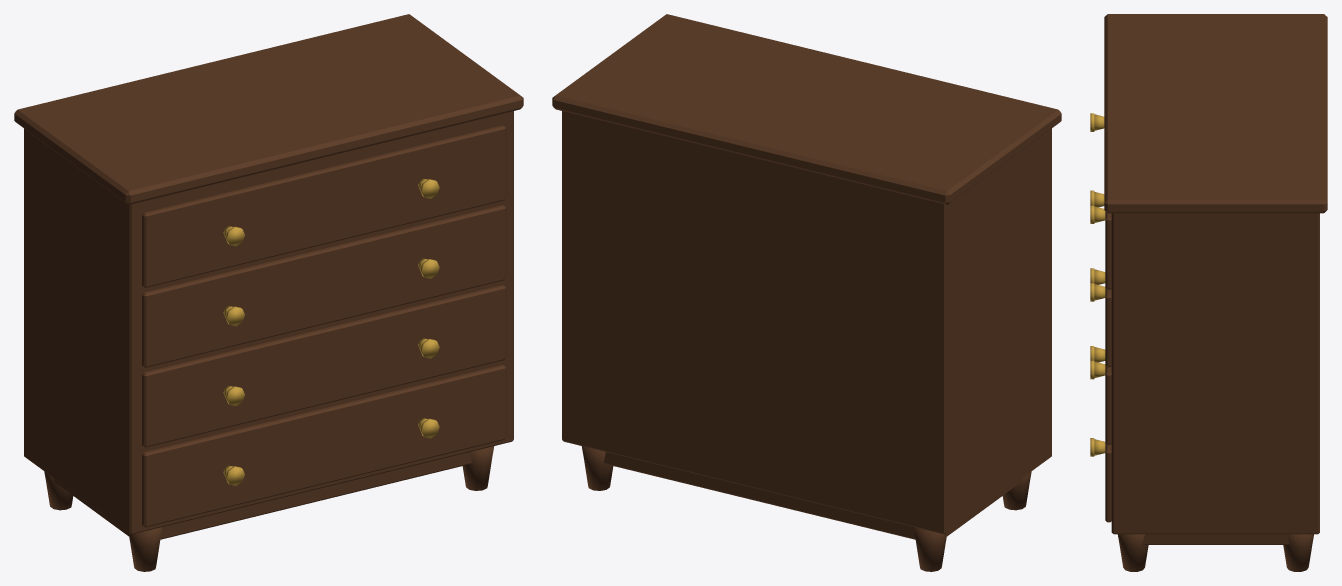
Rendered from Comoda.fbx.
3 renders of one model, left to right at view 1: azimuth 30°, elevation 25°; view 2: azimuth 150°, elevation 25°; view 3: azimuth 270°, elevation 25°, orthographic. The views are drawn at different scales.
Visible parts, largest first — view 1: Comoda; view 2: Comoda; view 3: Comoda.
Boxes of the visible parts, x1,y1,x2,y2 form: Comoda: [14, 14, 523, 571]; Comoda: [552, 14, 1061, 571]; Comoda: [1090, 14, 1327, 571].
Bounding box in the file's own units: 0.9 × 0.85 × 0.478.
